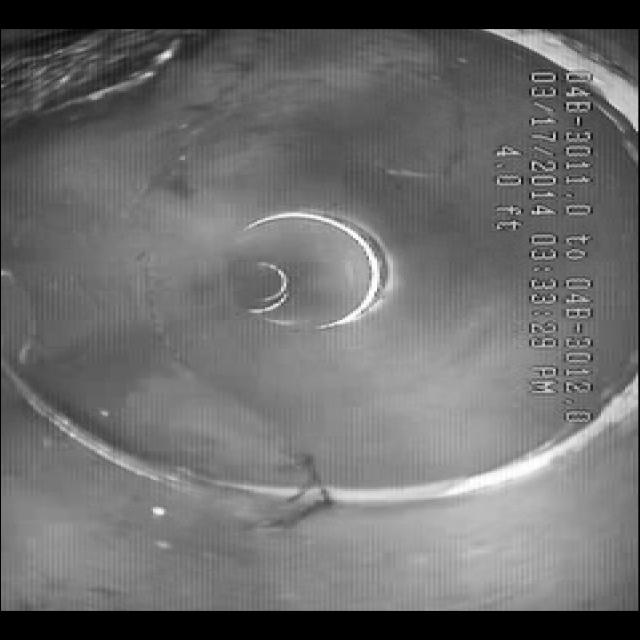Fracture: (64, 306, 286, 518)
